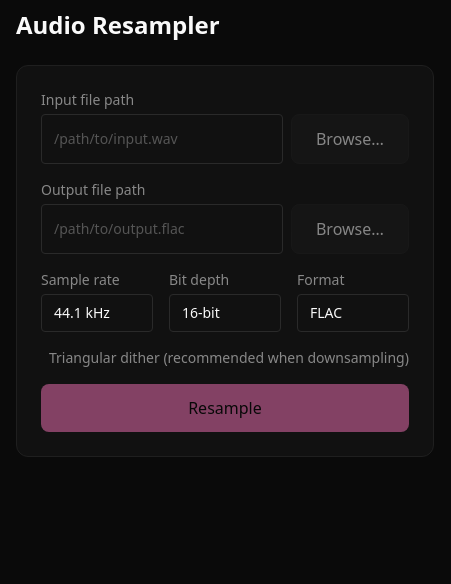
Test: Resampler › shows result card on success
Type "/in/test.wav" into the field with placeholder "/path/to/input.wav" at (162, 139), box top-left (41, 114), bottom-right (283, 164)
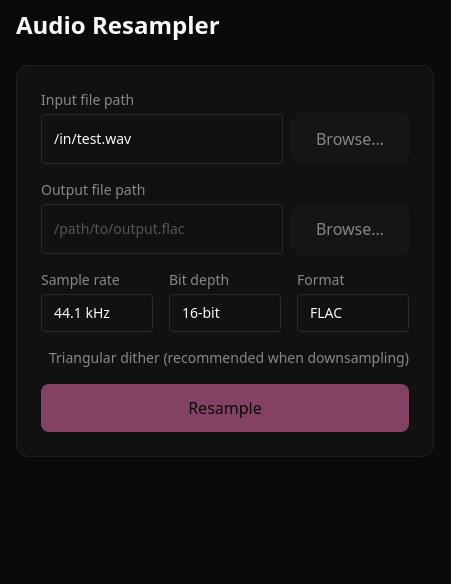
Type "/out/test.flac" into the field with placeholder "/path/to/output.flac" at (162, 229), box top-left (41, 204), bottom-right (283, 254)
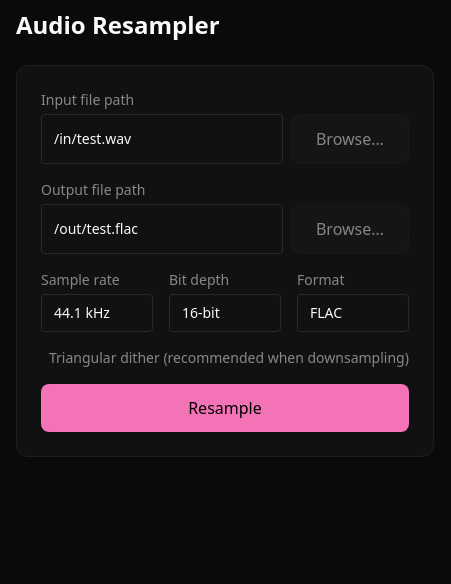
Click the button "Resample" at (225, 408), box top-left (41, 384), bottom-right (409, 432)
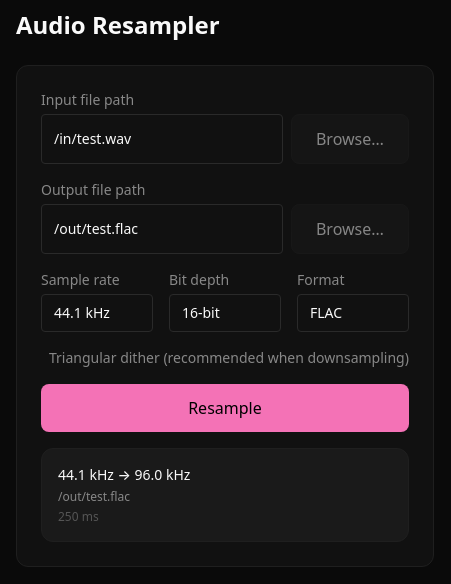
expect the text "44.1 kHz → 96.0 kHz" is shown: met, box top-left (58, 465), bottom-right (190, 484)
